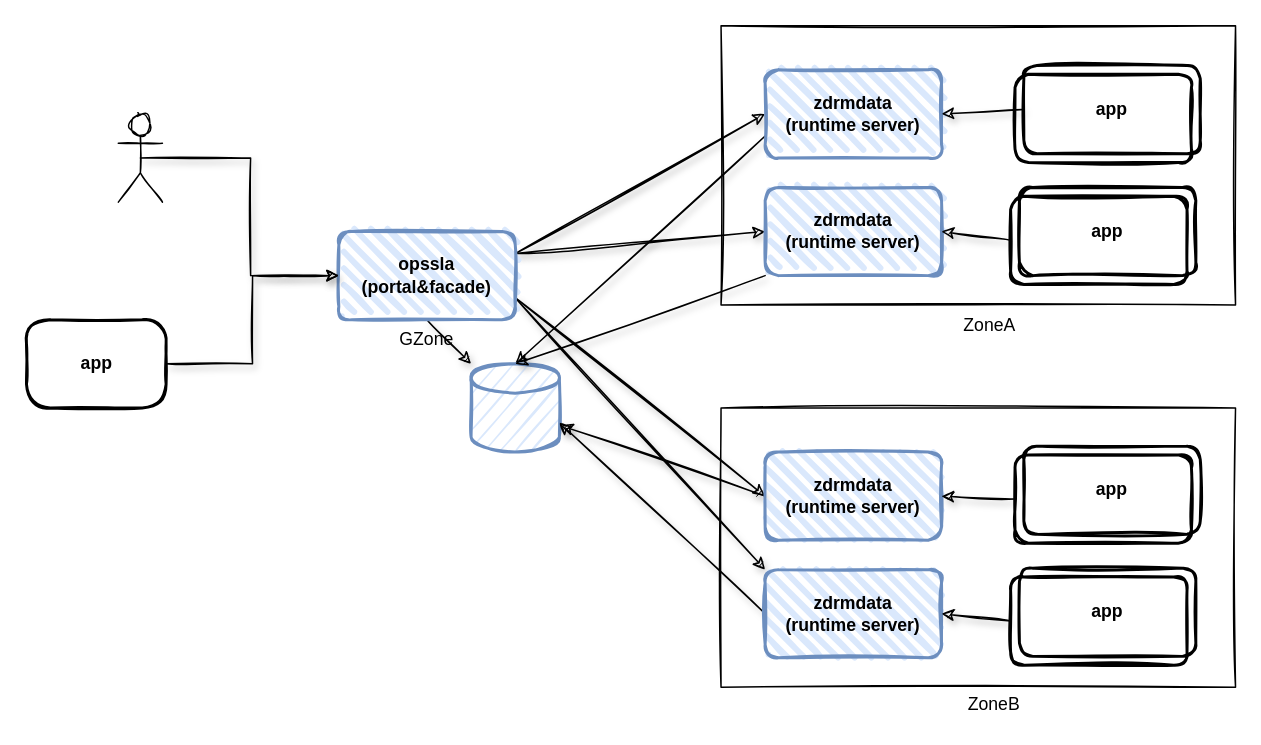
Image size: 1261x745. Some labels were removed from this diagram. The centre of each missing label's shape, as x and y in pixels:
"DB" goes at point 514,407.
"user" goes at point 139,157.
